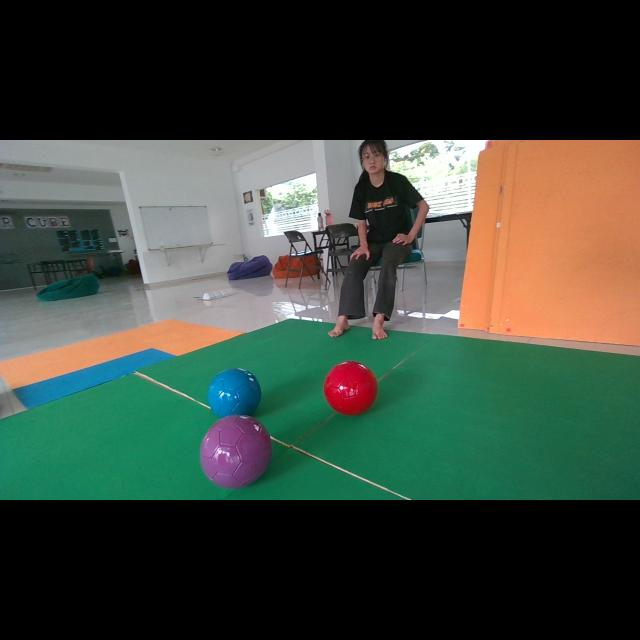B: (208, 369, 261, 418)
P: (200, 415, 272, 488)
R: (324, 361, 378, 415)
